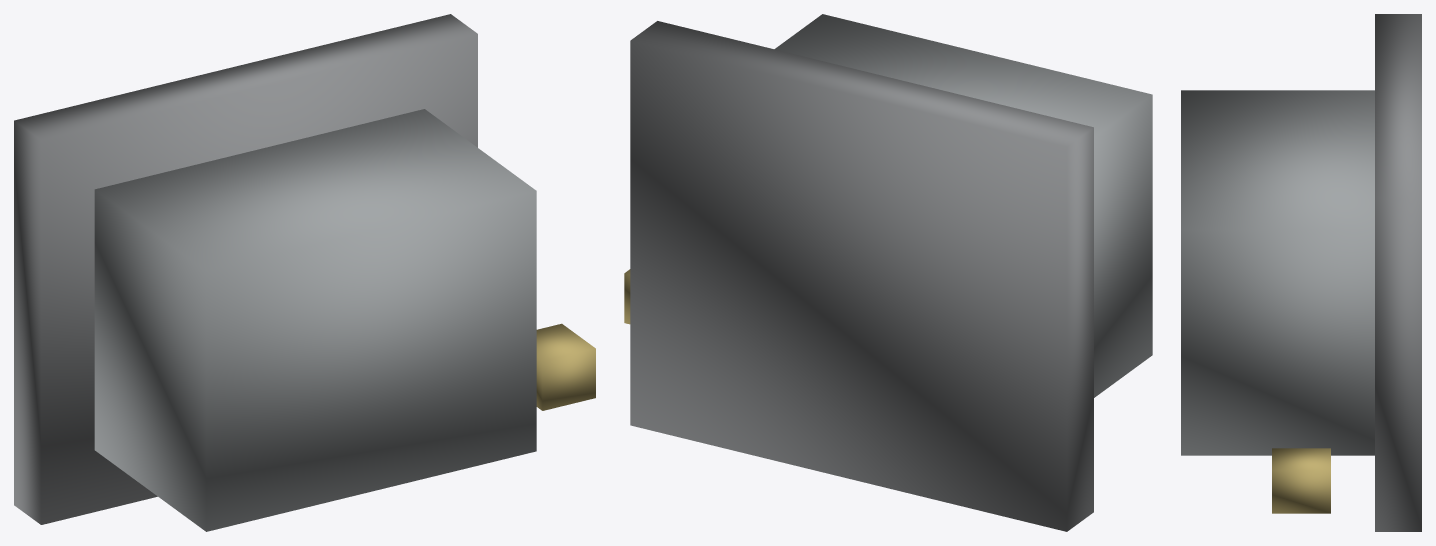
Rendered from duct_penetration_05.glb.
3 views of the same model, side by side, from view 1: azimuth 30°, elevation 25°; view 2: azimuth 150°, elevation 25°; view 3: azimuth 270°, elevation 25° (orthographic). The views are drawn at different scales.
Visible parts, largest first — view 1: world; view 2: world; view 3: world.
Part boxes in pixels (bbox=[...]): world: bbox=[14, 14, 595, 531]; world: bbox=[624, 14, 1152, 531]; world: bbox=[1181, 14, 1421, 531].
Size of the model in its own units: 0.8184 by 0.6076 by 0.3977.
